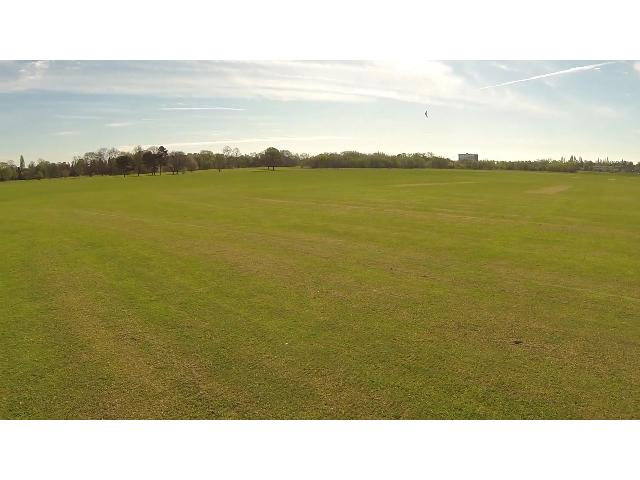Anti-Drone: (422, 108, 434, 120)
